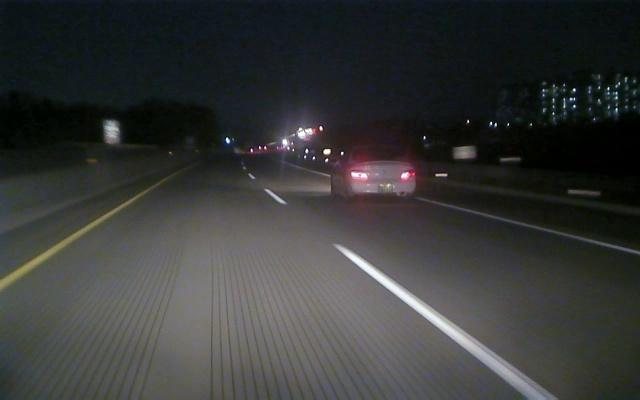lane: (250, 174, 556, 397), (2, 192, 143, 290), (435, 201, 639, 256)
